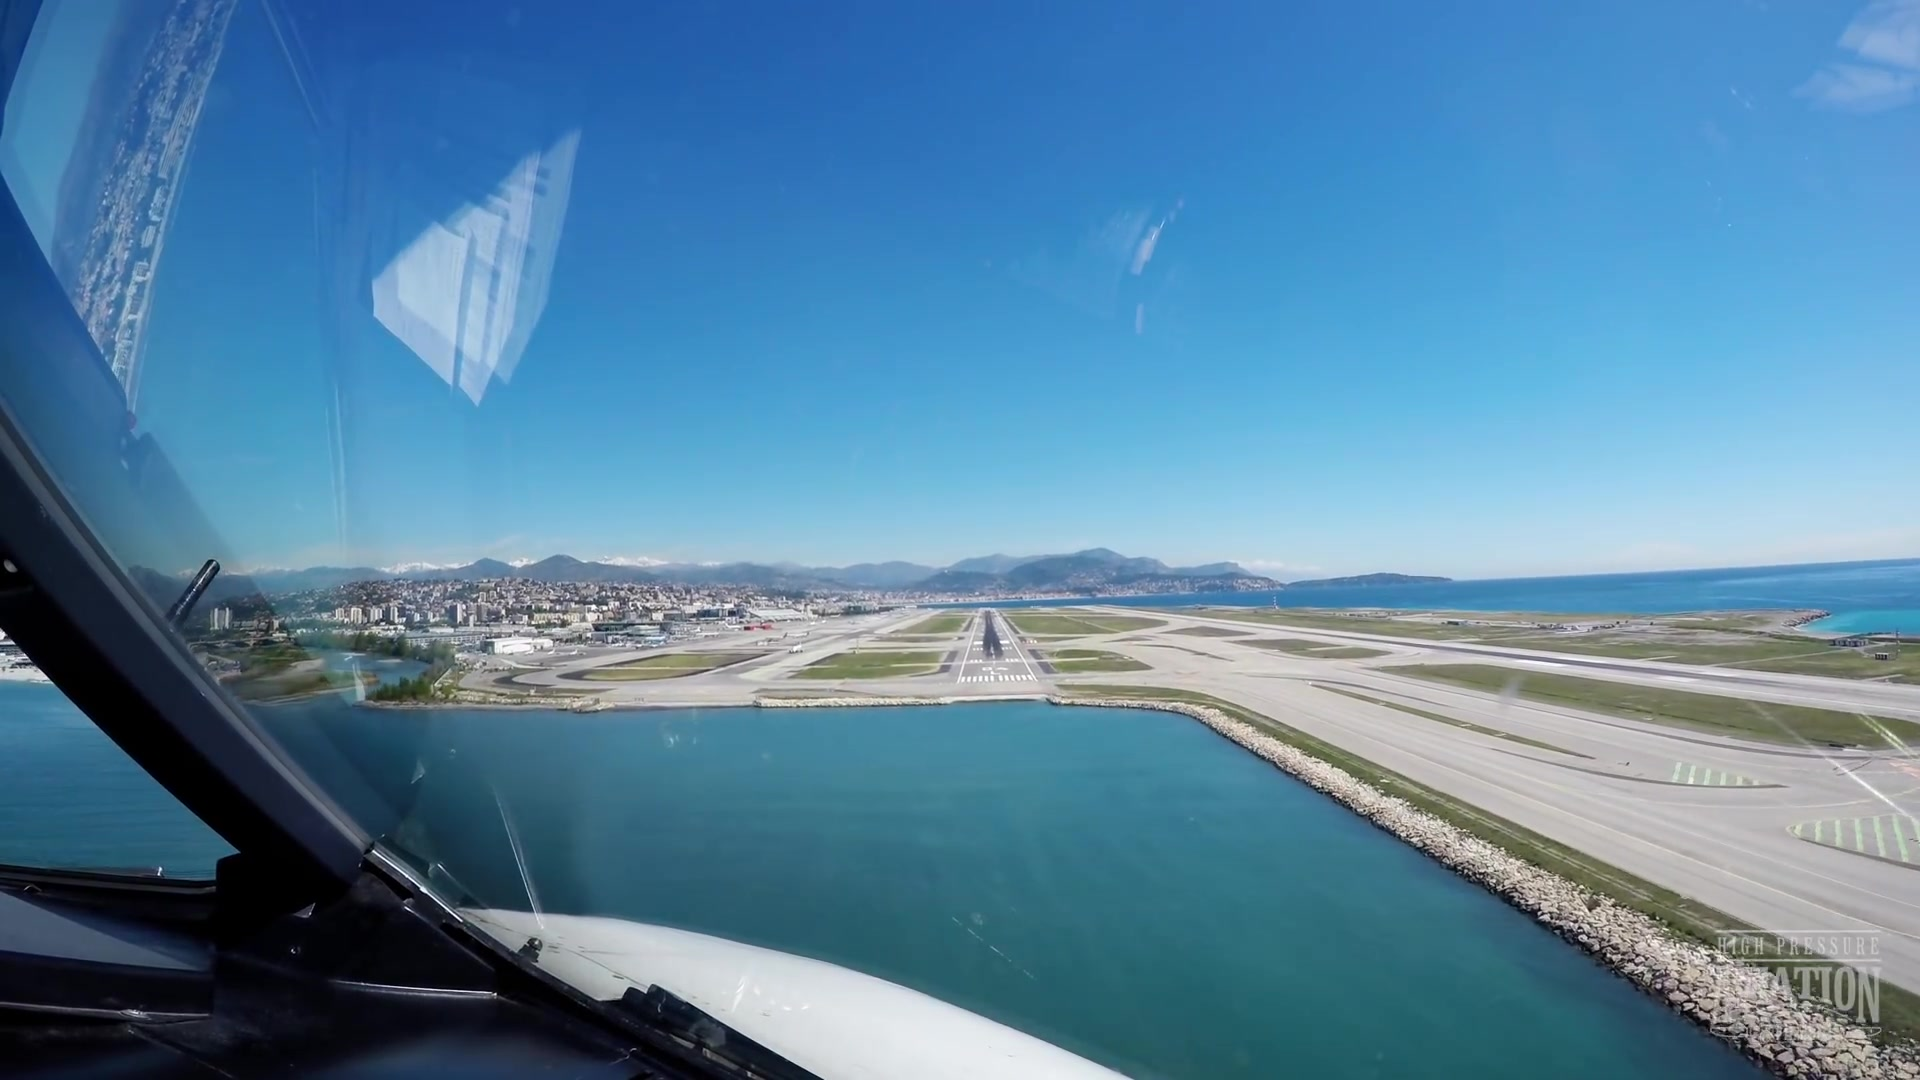entrance: (956, 673, 1035, 684)
runway: (956, 608, 1038, 692)
